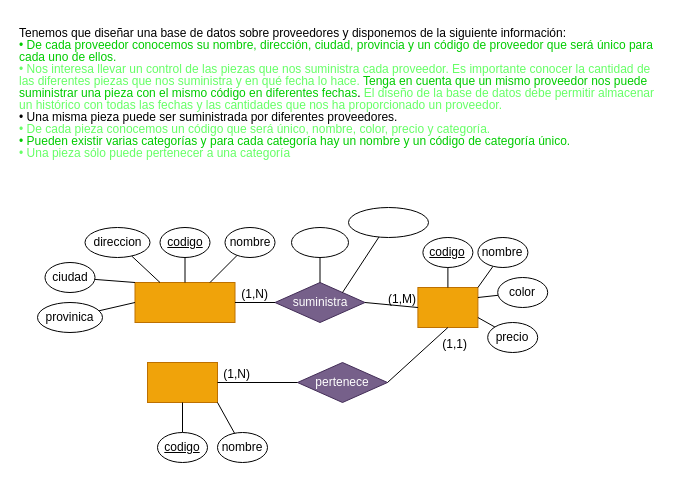
Some shapes in this 674 by 480 pixel diagram are drawn without their labels. The centre of each missing label's shape, as x and y in pixels:
"cantidad" goes at point (319, 242).
"categoria" goes at point (182, 382).
"fechaPedido" goes at point (388, 222).
"pieza" goes at point (447, 307).
"proveedor" goes at point (184, 302).
